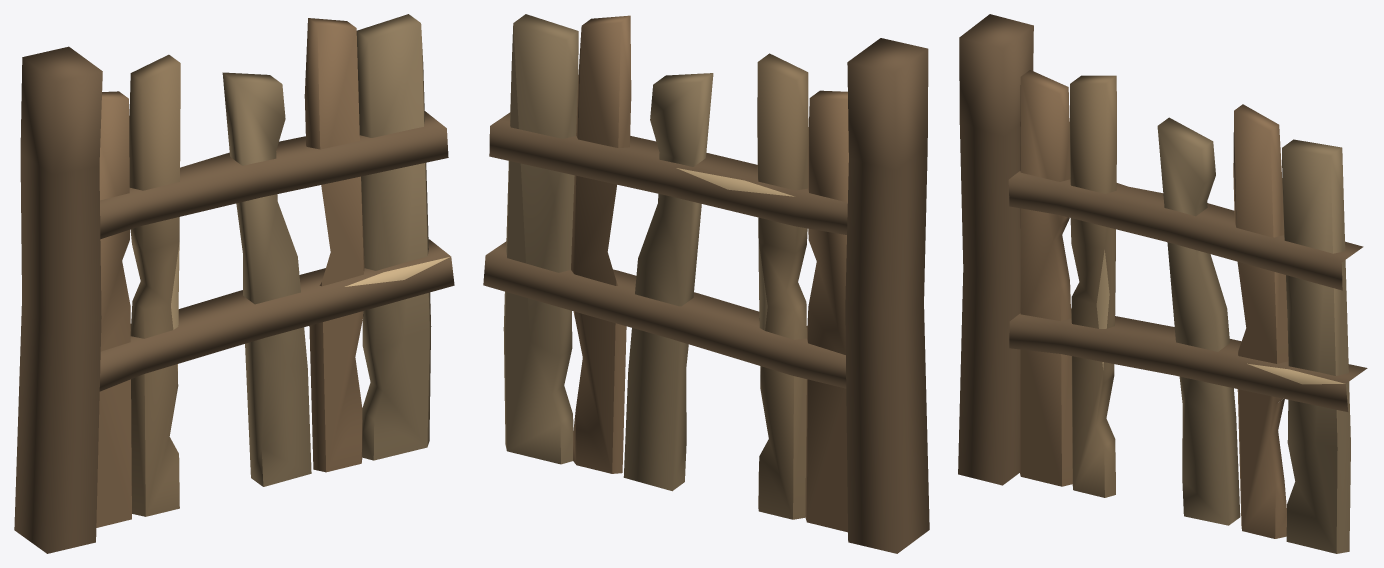
Rendered from rpgpp_av_fence_03d_2m.gltf.
3 views of the same model, side by side, from view 1: azimuth 30°, elevation 25°; view 2: azimuth 150°, elevation 25°; view 3: azimuth 330°, elevation 25° (orthographic). The views are drawn at different scales.
Parts seen in each view (by area): view 1: rpgpp_av_fence_03d_2m; view 2: rpgpp_av_fence_03d_2m; view 3: rpgpp_av_fence_03d_2m.
Boxes of the visible parts, x1,y1,x2,y2 form: rpgpp_av_fence_03d_2m: [14, 14, 454, 553]; rpgpp_av_fence_03d_2m: [483, 14, 929, 553]; rpgpp_av_fence_03d_2m: [958, 14, 1367, 553].
Bounding box in the file's own units: 0.0198 × 0.0217 × 0.00304.
Materials: 1 (1 with a texture image).
